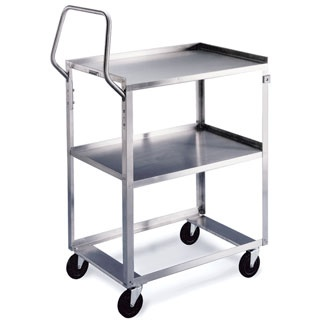Carts: (50, 3, 272, 319)
